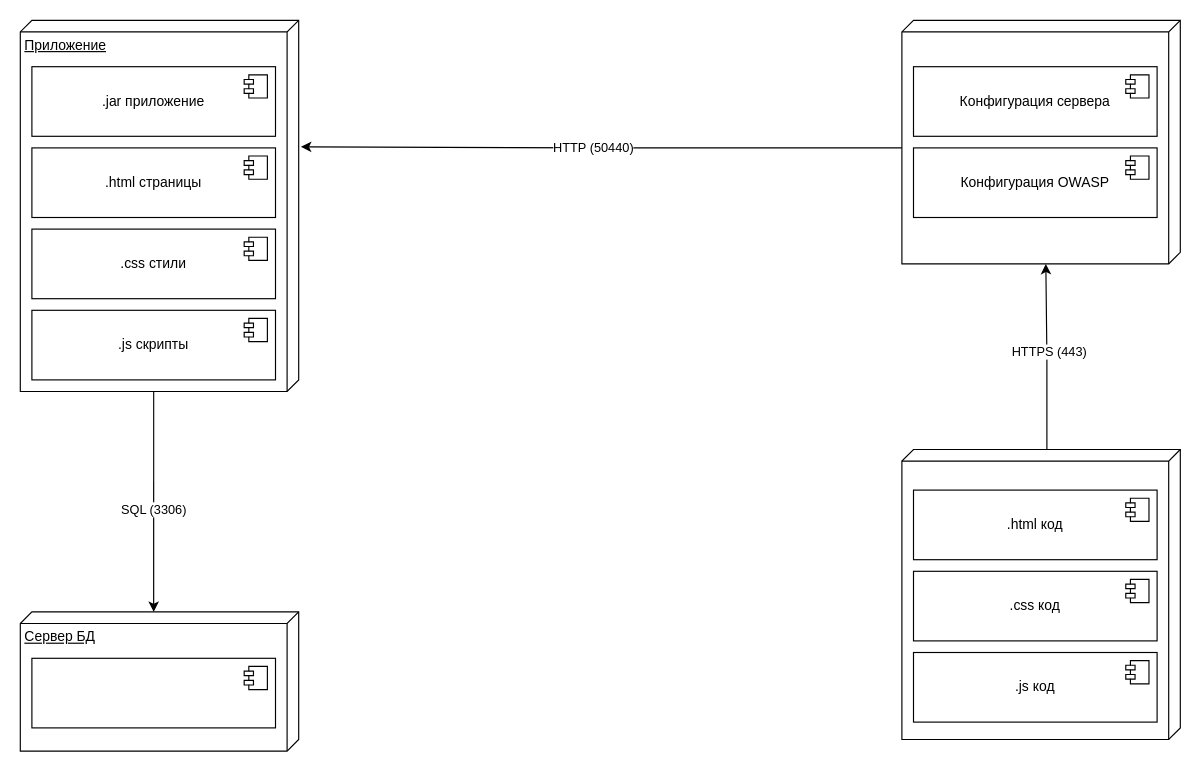
This 1201x771 diagram has some shape labels left out. Each missing label, with the box of its shape:
schema.sql БД: (31, 657, 276, 728)
Веб-сервер (nginx): (901, 19, 1180, 264)
Клиентское устройство: (901, 448, 1180, 740)
